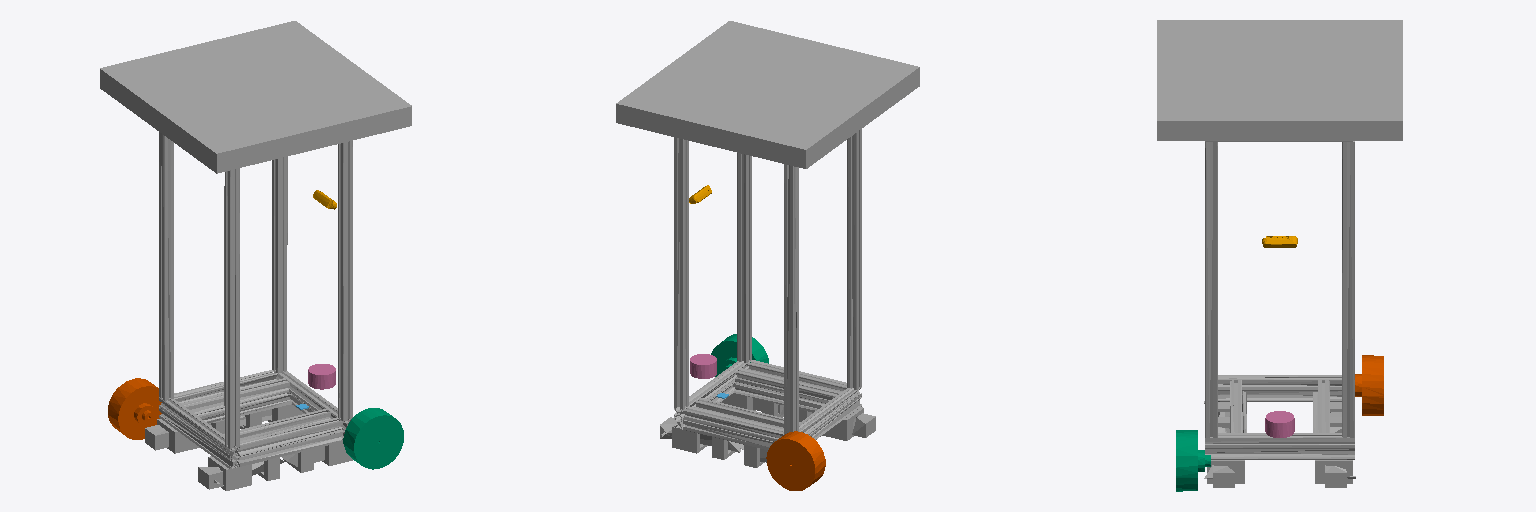
URDF robot description (for):
<?xml version='1.0' encoding='utf-8'?>
<robot name="for">
    <link name="depthcam">
        <inertial>
            <origin xyz="0.2077934975286655 0.0011115851563750052 0.6565726048226638" rpy="0.0 -0.0 0.0" />
            <mass value="0.12357215378449894" />
            <inertia ixx="7.471042232364694e-05" iyy="1.1204875998212238e-05" izz="7.507655482745165e-05" ixy="9.582642854677948e-07" iyz="-5.575817337086643e-07" ixz="3.567664193723785e-07" />
        </inertial>
        <visual name="depthcam_visual">
            <origin xyz="0.20431500000000008 0.0 0.6551490000000003" rpy="0.0 5.55111512312578e-17 0.0" />
            <geometry>
                <mesh filename="package://urdfbot_description/meshes/depthcam.stl" scale="0.001 0.001 0.001" />
            </geometry>
        </visual>
        <collision name="depthcam_collision">
            <origin xyz="0.20431500000000008 0.0 0.6551490000000003" rpy="0.0 5.55111512312578e-17 0.0" />
            <geometry>
                <mesh filename="package://urdfbot_description/meshes/depthcam.stl" scale="0.001 0.001 0.001" />
            </geometry>
        </collision>
    </link>
    <link name="imu">
        <inertial>
            <origin xyz="0.14 0.0 0.0925" rpy="0.0 -0.0 0.0" />
            <mass value="0.0052257960000000004" />
            <inertia ixx="2.8487555928000493e-07" iyy="2.8487555928002526e-07" izz="5.619124245599894e-07" ixy="0.0" iyz="0.0" ixz="0.0" />
        </inertial>
        <visual name="imu_visual">
            <origin xyz="0.14 0.0 0.0925" rpy="0.0 -0.0 0.0" />
            <geometry>
                <mesh filename="package://urdfbot_description/meshes/imu.stl" scale="0.001 0.001 0.001" />
            </geometry>
        </visual>
        <collision name="imu_collision">
            <origin xyz="0.14 0.0 0.0925" rpy="0.0 -0.0 0.0" />
            <geometry>
                <mesh filename="package://urdfbot_description/meshes/imu.stl" scale="0.001 0.001 0.001" />
            </geometry>
        </collision>
    </link>
    <link name="fr">
        <inertial>
            <origin xyz="1.7638783795348444e-07 -0.06166143954152951 7.570621437321165e-07" rpy="0.0 -0.0 0.0" />
            <mass value="2.837554355689987" />
            <inertia ixx="0.004828387718020077" iyy="0.007860498102555097" izz="0.004828387689527203" ixy="-1.8583774602509706e-08" iyz="-8.002847495102247e-08" ixz="-6.990640456273809e-12" />
        </inertial>
        <visual name="fr_visual">
            <origin xyz="4.125022236678433e-08 -0.004000395737691456 -2.2397809434410895e-07" rpy="-2.421628242969205e-13 -0.0 0.0" />
            <geometry>
                <mesh filename="package://urdfbot_description/meshes/fr.stl" scale="0.001 0.001 0.001" />
            </geometry>
        </visual>
        <collision name="fr_collision">
            <origin xyz="4.125022236678433e-08 -0.004000395737691456 -2.2397809434410895e-07" rpy="-2.421628242969205e-13 -0.0 0.0" />
            <geometry>
                <mesh filename="package://urdfbot_description/meshes/fr.stl" scale="0.001 0.001 0.001" />
            </geometry>
        </collision>
    </link>
    <link name="fl">
        <inertial>
            <origin xyz="1.7638783823770156e-07 0.0616614384752339 -7.605512353544224e-07" rpy="0.0 -0.0 0.0" />
            <mass value="2.8375543556899876" />
            <inertia ixx="0.004828387718020077" iyy="0.007860498102555041" izz="0.004828387689527147" ixy="1.8583774546998555e-08" iyz="-8.002847493077203e-08" ixz="6.990663175920916e-12" />
        </inertial>
        <visual name="fl_visual">
            <origin xyz="4.125022247336574e-08 0.003999953605165061 1.639782291453414e-07" rpy="-2.421628242969204e-13 -0.0 0.0" />
            <geometry>
                <mesh filename="package://urdfbot_description/meshes/fl.stl" scale="0.001 0.001 0.001" />
            </geometry>
        </visual>
        <collision name="fl_collision">
            <origin xyz="4.125022247336574e-08 0.003999953605165061 1.639782291453414e-07" rpy="-2.421628242969204e-13 -0.0 0.0" />
            <geometry>
                <mesh filename="package://urdfbot_description/meshes/fl.stl" scale="0.001 0.001 0.001" />
            </geometry>
        </collision>
    </link>
    <link name="rr">
        <inertial>
            <origin xyz="1.7525576812005284e-07 -0.06166143954152922 7.565959187794005e-07" rpy="0.0 -0.0 0.0" />
            <mass value="2.837554355689987" />
            <inertia ixx="0.004828387718020105" iyy="0.007860498102555097" izz="0.004828387689527203" ixy="-1.858377457475413e-08" iyz="-8.002847494967622e-08" ixz="-6.990640456273809e-12" />
        </inertial>
        <visual name="rr_visual">
            <origin xyz="4.0118152533352716e-08 -0.0040003957376911715 -2.2444431927121838e-07" rpy="-2.417187350870703e-13 -0.0 0.0" />
            <geometry>
                <mesh filename="package://urdfbot_description/meshes/rr.stl" scale="0.001 0.001 0.001" />
            </geometry>
        </visual>
        <collision name="rr_collision">
            <origin xyz="4.0118152533352716e-08 -0.0040003957376911715 -2.2444431927121838e-07" rpy="-2.417187350870703e-13 -0.0 0.0" />
            <geometry>
                <mesh filename="package://urdfbot_description/meshes/rr.stl" scale="0.001 0.001 0.001" />
            </geometry>
        </collision>
    </link>
    <link name="rl">
        <inertial>
            <origin xyz="1.7525576840426992e-07 0.061661438475234115 -7.600851144962171e-07" rpy="0.0 -0.0 0.0" />
            <mass value="2.8375543556899876" />
            <inertia ixx="0.004828387718020022" iyy="0.007860498102555041" izz="0.004828387689527147" ixy="1.858377457475413e-08" iyz="-8.002847492942557e-08" ixz="6.990663176026795e-12" />
        </inertial>
        <visual name="rl_visual">
            <origin xyz="4.0118152639934124e-08 0.003999953605165239 1.644443499779398e-07" rpy="-2.417187350870704e-13 -0.0 0.0" />
            <geometry>
                <mesh filename="package://urdfbot_description/meshes/rl.stl" scale="0.001 0.001 0.001" />
            </geometry>
        </visual>
        <collision name="rl_collision">
            <origin xyz="4.0118152639934124e-08 0.003999953605165239 1.644443499779398e-07" rpy="-2.417187350870704e-13 -0.0 0.0" />
            <geometry>
                <mesh filename="package://urdfbot_description/meshes/rl.stl" scale="0.001 0.001 0.001" />
            </geometry>
        </collision>
    </link>
    <link name="lidar">
        <inertial>
            <origin xyz="0.19890700000000003 0.0 0.13415300000000002" rpy="0.0 -0.0 0.0" />
            <mass value="0.45669626112732004" />
            <inertia ixx="0.000213806445884087" iyy="0.00021380644588409395" izz="0.0002984104748535235" ixy="-1.2278178473934532e-19" iyz="1.2278178473934532e-19" ixz="0.0" />
        </inertial>
        <visual name="lidar_visual">
            <origin xyz="0.19890700000000003 0.0 0.14485300000000004" rpy="0.0 -0.0 0.0" />
            <geometry>
                <mesh filename="package://urdfbot_description/meshes/lidar.stl" scale="0.001 0.001 0.001" />
            </geometry>
        </visual>
        <collision name="lidar_collision">
            <origin xyz="0.19890700000000003 0.0 0.14485300000000004" rpy="0.0 -0.0 0.0" />
            <geometry>
                <mesh filename="package://urdfbot_description/meshes/lidar.stl" scale="0.001 0.001 0.001" />
            </geometry>
        </collision>
    </link>
    <link name="base_link">
        <inertial>
            <origin xyz="6.525092851947388e-08 1.198093576927118e-07 0.7982005454196317" rpy="0.0 0.0 0.0" />
            <mass value="70.88150424009648" />
            <inertia ixx="11.75392022368657" iyy="11.646069432292414" izz="3.9283253578073816" ixy="4.63532716750909e-08" iyz="1.680256468732027e-06" ixz="3.3183773682066916e-06" />
        </inertial>
        <visual name="base_link_visual">
            <origin xyz="0.0 0.0 0.0" rpy="0.0 0.0 0.0" />
            <geometry>
                <mesh filename="package://urdfbot_description/meshes/base_link.stl" scale="0.001 0.001 0.001" />
            </geometry>
        </visual>
        <collision name="base_link_collision">
            <origin xyz="0.0 0.0 0.0" rpy="0.0 0.0 0.0" />
            <geometry>
                <mesh filename="package://urdfbot_description/meshes/base_link.stl" scale="0.001 0.001 0.001" />
            </geometry>
        </collision>
    </link>
    <joint name="base_link_fl" type="continuous">
        <origin xyz="0.22050051 0.16748228 -2.7e-07" rpy="0.0 -0.0 0.0" />
        <parent link="base_link" />
        <child link="fl" />
        <axis xyz="0.0 0.0 1.0" />
    </joint>
    <joint name="base_link_rl" type="continuous">
        <origin xyz="-0.22049943 0.16748228 -2.7e-07" rpy="0.0 -0.0 0.0" />
        <parent link="base_link" />
        <child link="rl" />
        <axis xyz="0.0 0.0 1.0" />
    </joint>
    <joint name="base_link_fr" type="continuous">
        <origin xyz="0.22050051 -0.16748372 3.3e-07" rpy="0.0 -0.0 0.0" />
        <parent link="base_link" />
        <child link="fr" />
        <axis xyz="0.0 0.0 1.0" />
    </joint>
    <joint name="base_link_rr" type="continuous">
        <origin xyz="-0.22049943 -0.16748372 3.3e-07" rpy="0.0 -0.0 0.0" />
        <parent link="base_link" />
        <child link="rr" />
        <axis xyz="0.0 0.0 1.0" />
    </joint>
    <joint name="base_link_imu" type="fixed">
        <origin xyz="0.0 0.0 0.0" rpy="0.0 -0.0 0.0" />
        <parent link="base_link" />
        <child link="imu" />
    </joint>
    <joint name="base_link_lidar" type="fixed">
        <origin xyz="0.0 0.0 0.0" rpy="0.0 -0.0 0.0" />
        <parent link="base_link" />
        <child link="lidar" />
    </joint>
    <joint name="base_link_depthcam" type="fixed">
        <origin xyz="0.0 0.0 0.0" rpy="0.0 -0.0 0.0" />
        <parent link="base_link" />
        <child link="depthcam" />
    </joint>
</robot>

--- Render facts (derived) ---
The picture shows the robot from 3 angles, left to right: view 1: azimuth 30°, elevation 25°; view 2: azimuth 150°, elevation 25°; view 3: azimuth 270°, elevation 25°; orthographic projection.
Robot: for — 8 links, 7 joints (4 continuous, 3 fixed); root link base_link; default pose: all joints at 0.
Links seen in each view (by area): view 1: base_link, fr, rl, lidar; view 2: base_link, rl, fr, lidar; view 3: base_link, fr, rl, lidar.
Boxes of the visible links, x1,y1,x2,y2 form: base_link: [100, 21, 411, 490]; fr: [343, 408, 403, 469]; rl: [108, 378, 161, 439]; lidar: [308, 364, 335, 389]; base_link: [616, 21, 919, 467]; rl: [766, 431, 825, 490]; fr: [711, 334, 768, 376]; lidar: [690, 354, 716, 378]; base_link: [1157, 20, 1402, 487]; fr: [1176, 430, 1210, 491]; rl: [1355, 355, 1383, 415]; lidar: [1265, 411, 1294, 437].
Bounding box of the posed robot: 0.5928 × 0.6085 × 1.04 m (x, y, z).
6 mesh visuals loaded from 8 distinct referenced files (6 binary STL); not drawn: 2 (reference not matched to a file when rendering).